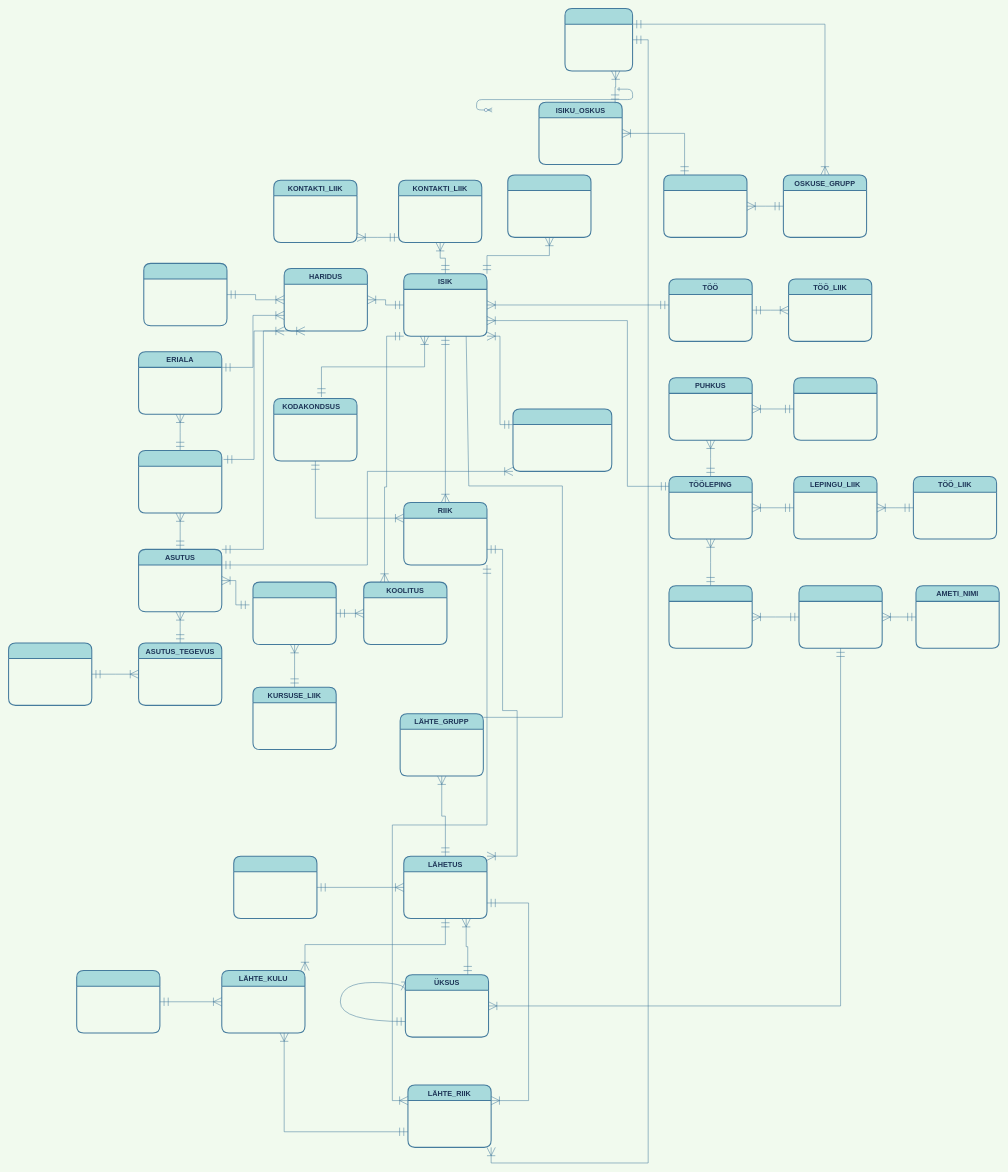
Some shapes in this 1008 by 1172 pixel diagram are drawn without their labels. Here are the shapes that lost their labels. From the top down, the box of each, then its label:
(564, 8, 633, 71): OSKUS
(507, 174, 591, 238): ISIKU_ARHIIV
(663, 174, 747, 238): OSKUSE_TASE
(143, 263, 227, 326): HARIDUSE_LIIK
(793, 377, 877, 440): PUHKUSE_LIIK
(512, 408, 612, 472): EELMINE_TÖÖKOGEMUS
(138, 450, 222, 513): TEADUSKOND
(252, 581, 336, 645): KURSUS
(668, 585, 752, 648): TL_VERSIOON
(798, 585, 882, 648): KOOSEIS
(8, 642, 92, 706): TEGEVUS_VALDKOND
(233, 855, 317, 919): LÄHTE_LIIK
(76, 970, 160, 1033): KULU_LIIK
